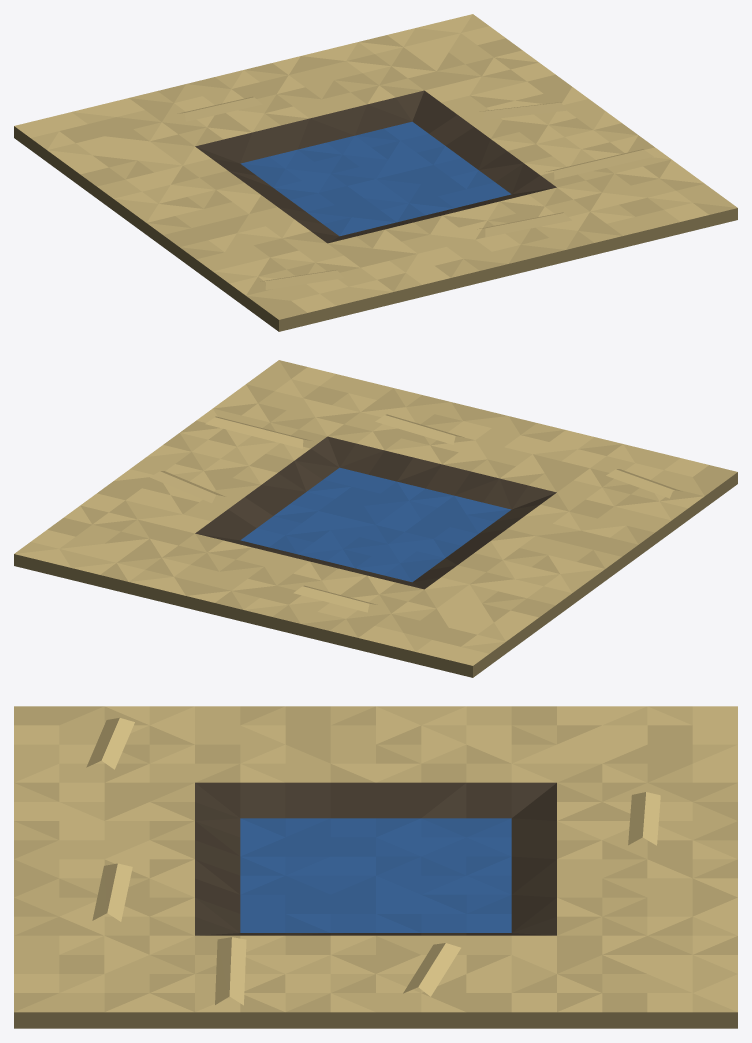
Rendered from river_pool_sand.glb.
3 views of the same model, one above another, from view 1: azimuth 30°, elevation 25°; view 2: azimuth 150°, elevation 25°; view 3: azimuth 270°, elevation 25° (orthographic). The views are drawn at different scales.
Parts seen in each view (by area): view 1: river_pool_sand; view 2: river_pool_sand; view 3: river_pool_sand.
Boxes of the visible parts, x1=… form: river_pool_sand: x1=14, y1=14, x2=737, y2=331; river_pool_sand: x1=14, y1=360, x2=737, y2=677; river_pool_sand: x1=14, y1=706, x2=737, y2=1028.
Bounding box in the file's own units: 4 × 0.135 × 4.
